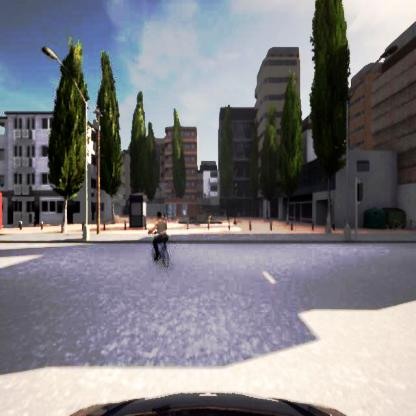bike: (148, 213, 172, 268)
